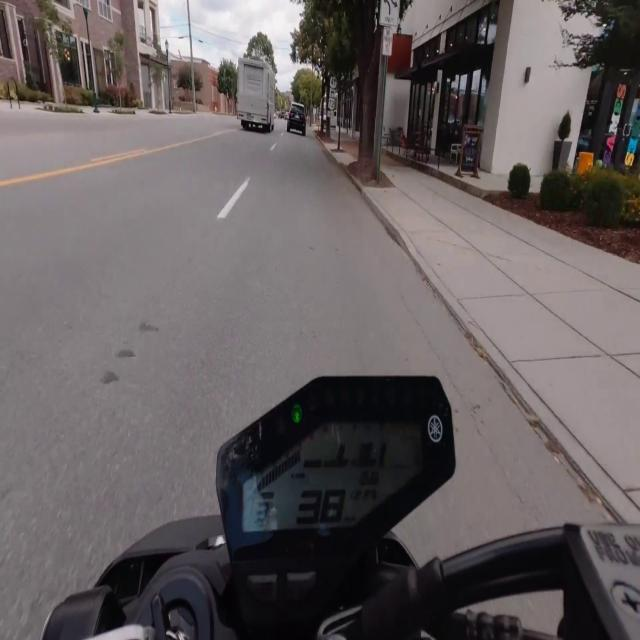car: (287, 103, 306, 135)
motorcycle: (42, 377, 639, 639)
